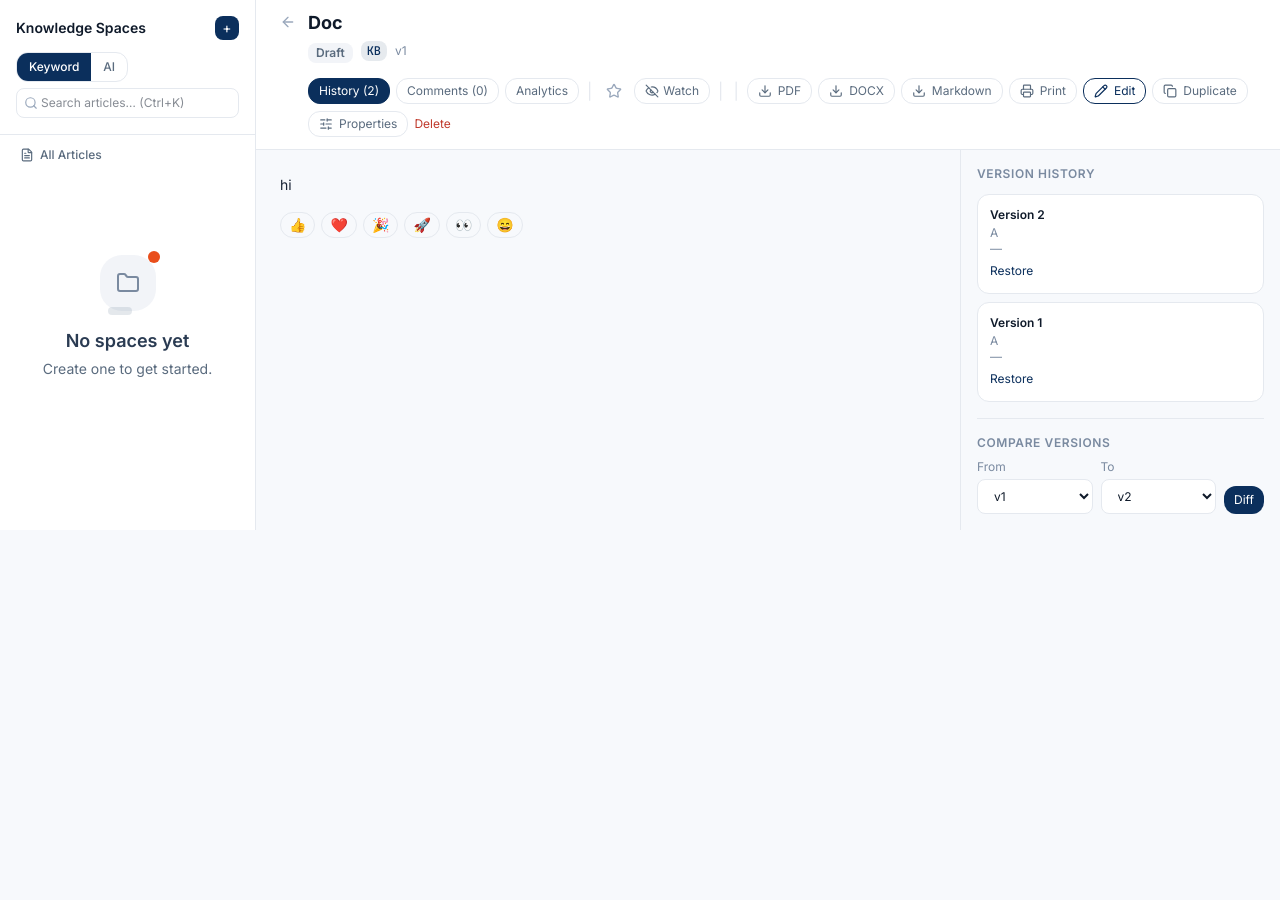
KnowledgeView › loads and renders version diffs in the history panel (KR-072)
Click the button "Diff": (1244, 500) 1224,486 -> 1264,514
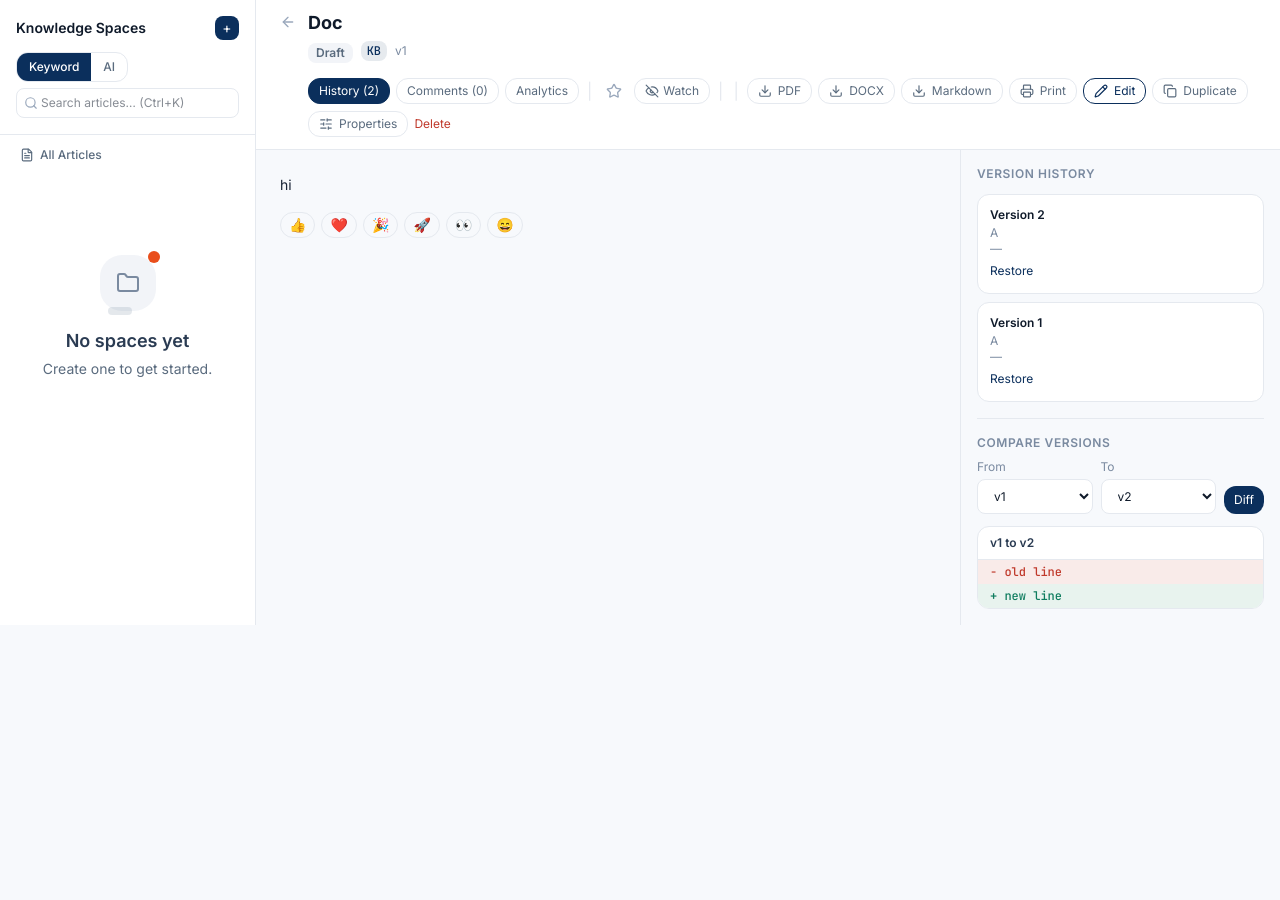
Check: the text "old line" is shown, box 1004,564 -> 1062,580
Check: the text "new line" is shown, box 1004,588 -> 1062,604
